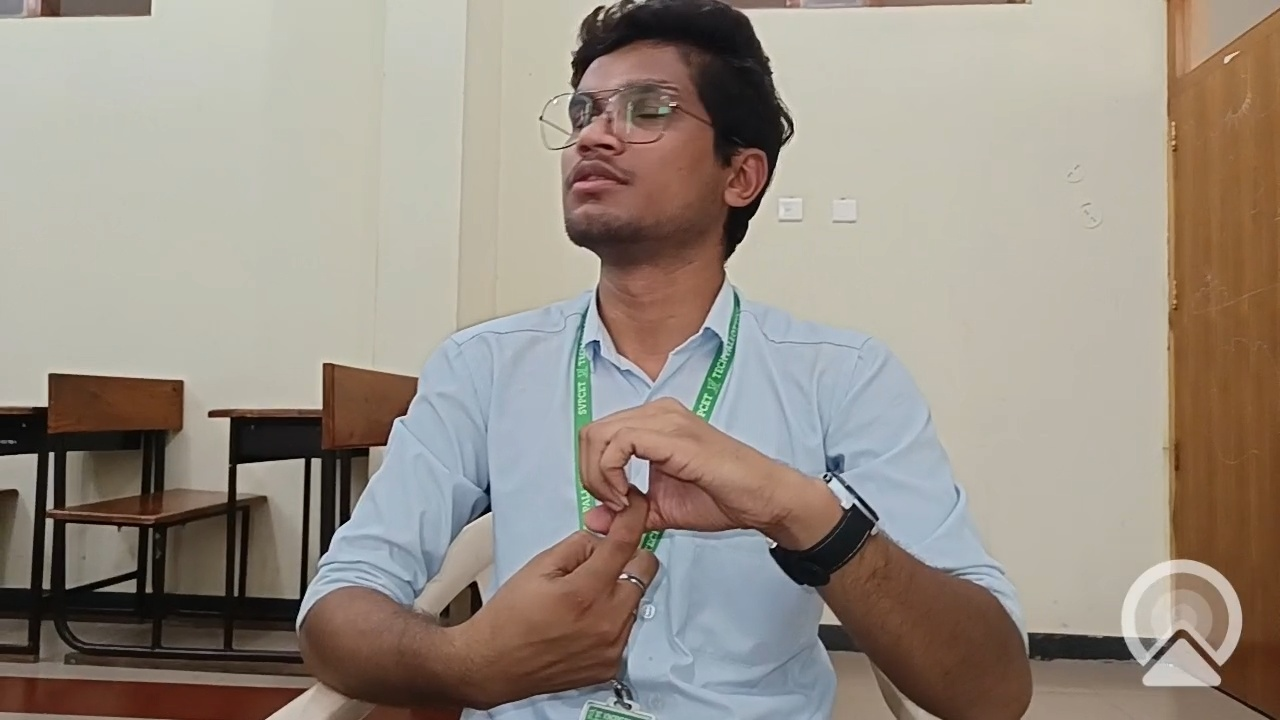Q: (412, 372, 883, 713)
